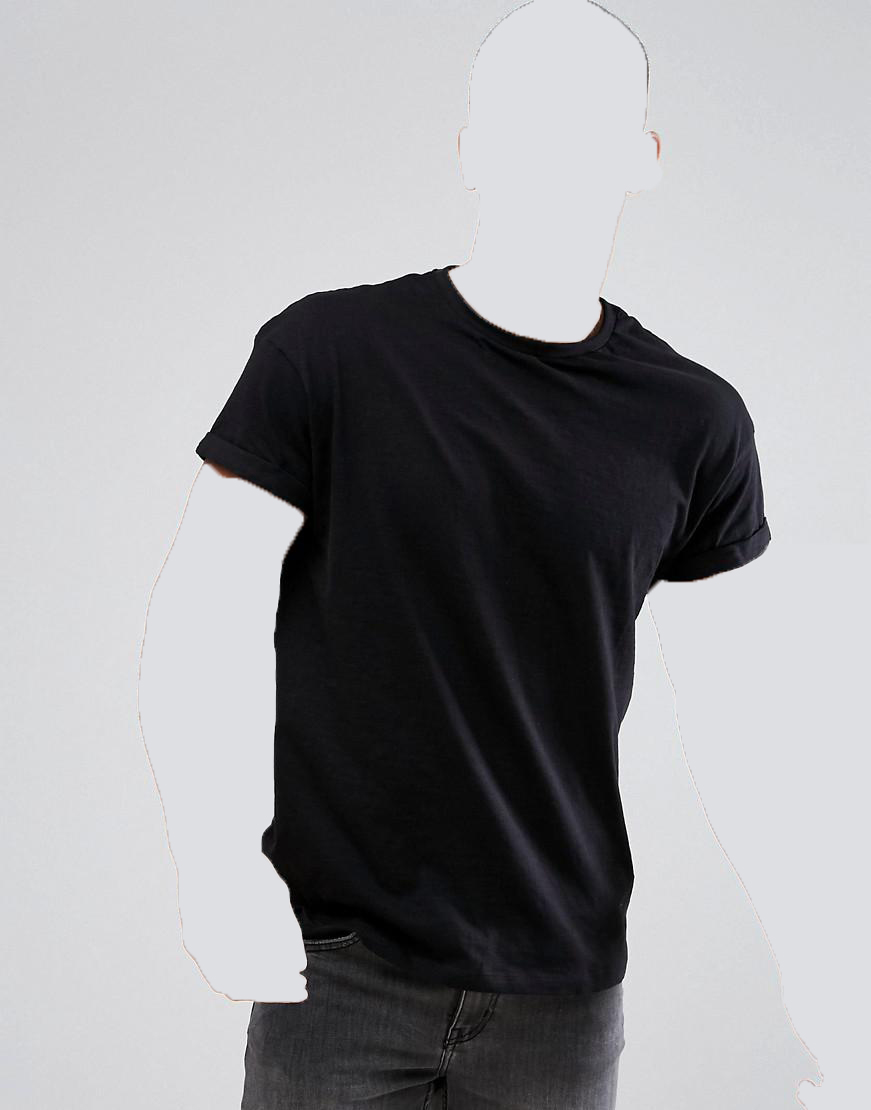teeshirt: (178, 259, 812, 1005)
